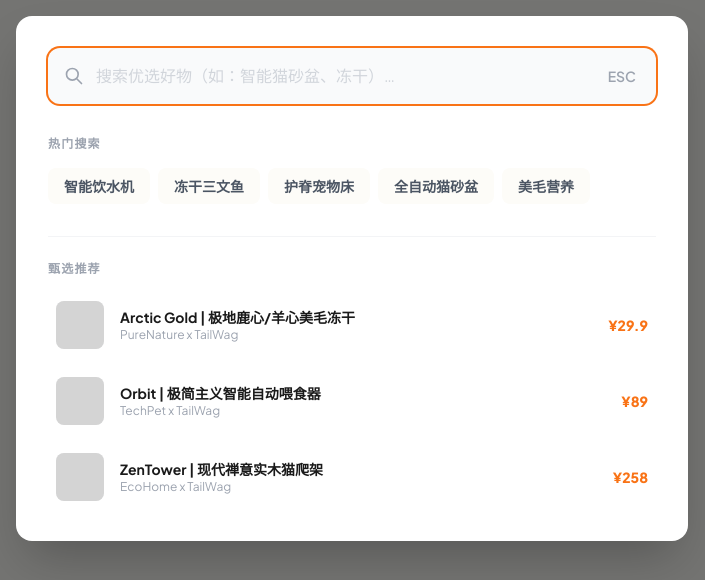
SearchModal Component › filters products based on search query
Type "饮水" into the field with placeholder "搜索优选好物（如：智能猫砂盆、冻干）…" at (352, 76), box [48, 48, 656, 104]
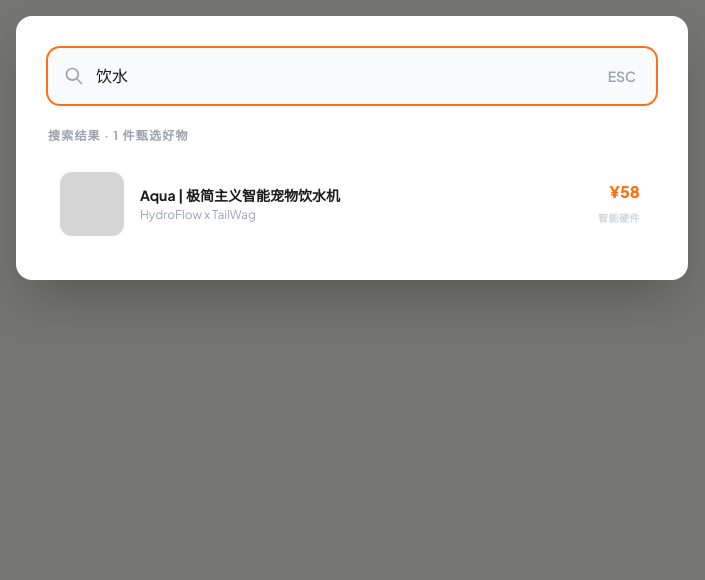
Result: the heading "Aqua | 极简主义智能宠物饮水机" is shown at [140, 186, 340, 204]
